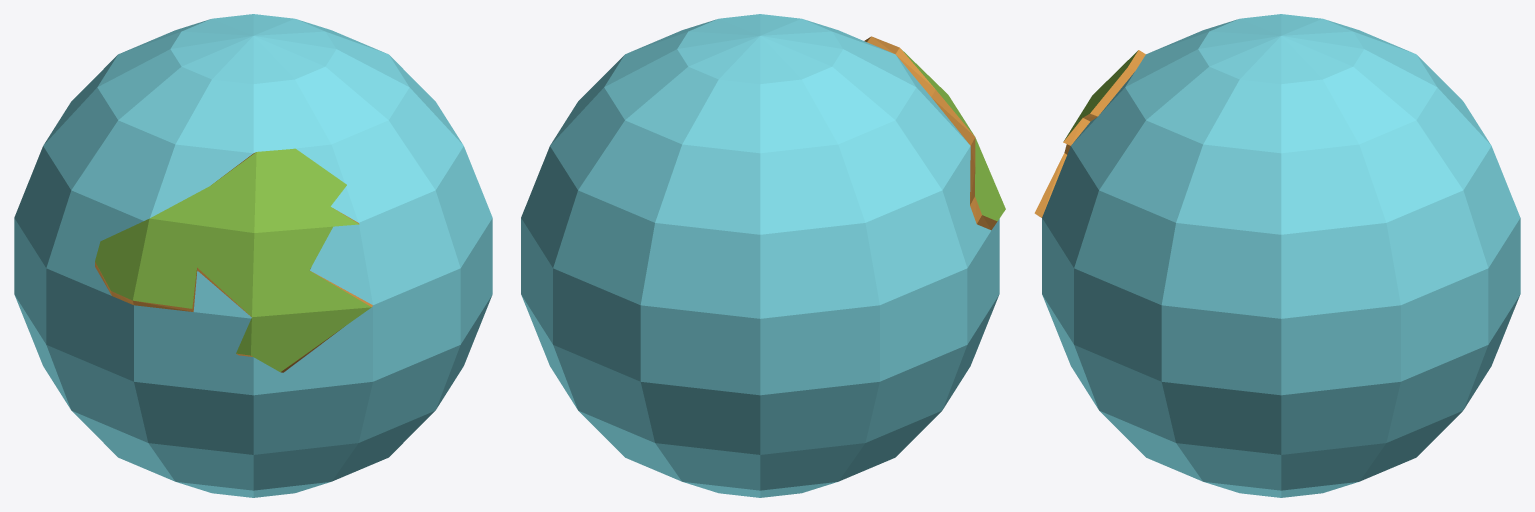
The model's file is background_planet.fbx.
3 views of the same model, side by side, from view 1: azimuth 30°, elevation 25°; view 2: azimuth 150°, elevation 25°; view 3: azimuth 270°, elevation 25° (orthographic).
Parts seen in each view (by area): view 1: mesh_1292817059; view 2: mesh_1292817059; view 3: mesh_1292817059.
Boxes of the visible parts, box(x1,y1,x2,y2) form: mesh_1292817059: box(14, 14, 492, 497); mesh_1292817059: box(521, 14, 1005, 497); mesh_1292817059: box(1034, 14, 1520, 497).
Size of the model in its own units: 424 by 431 by 431.
